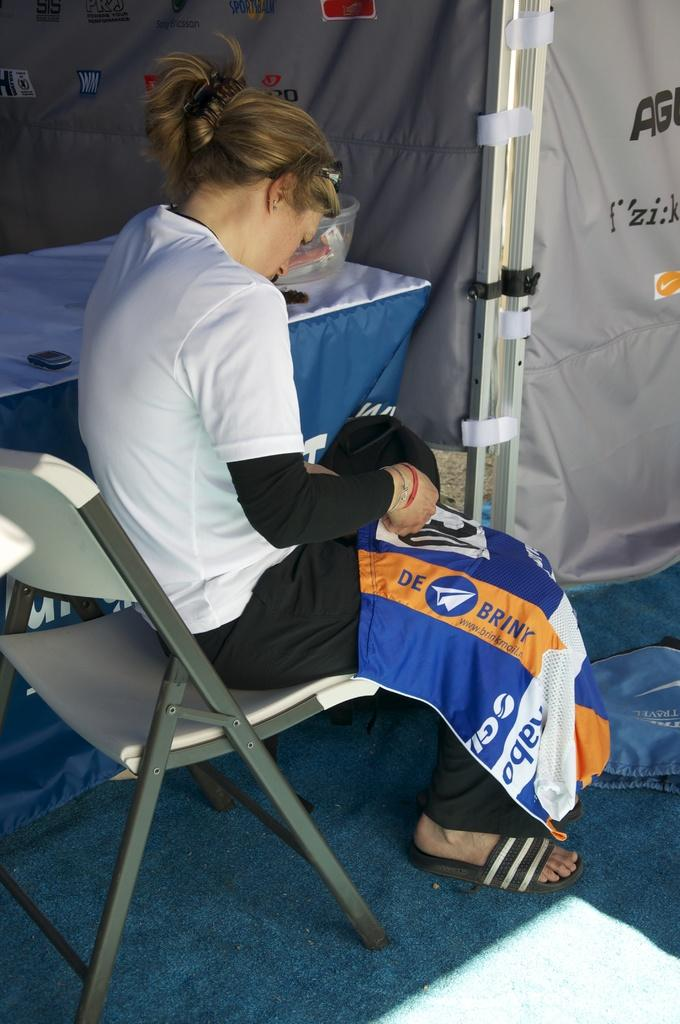Chair: (0, 445, 392, 1022)
Luggage-and-bags: (314, 413, 611, 840)
